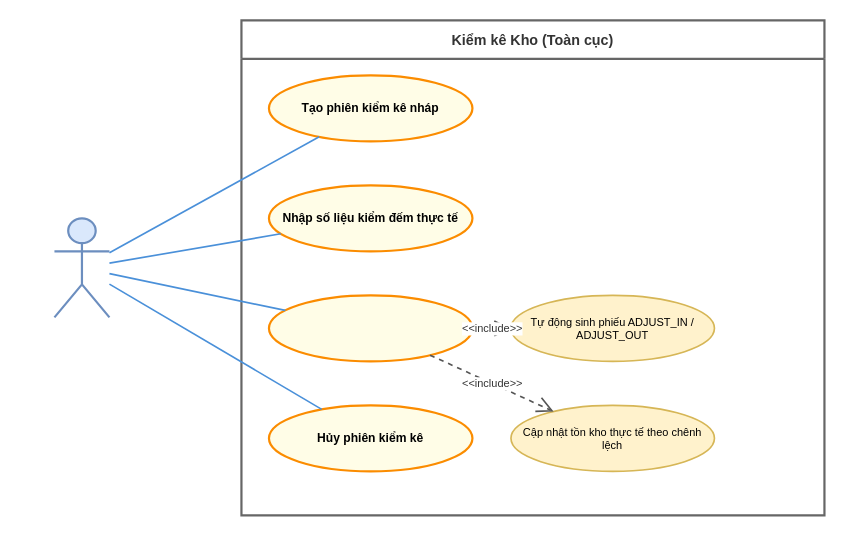
The diagram is 844 pixels wide and 535 high, and some of its shapes have lost their labels. The shapes that lost their labels are listed below. From the top down, each one's centre as x and y in pixels, then its label:
the point at 81,267: Quản trị viên (ADMIN)
the point at 370,328: Hoàn tất kiểm kê (DRAFT → COMPLETED)
